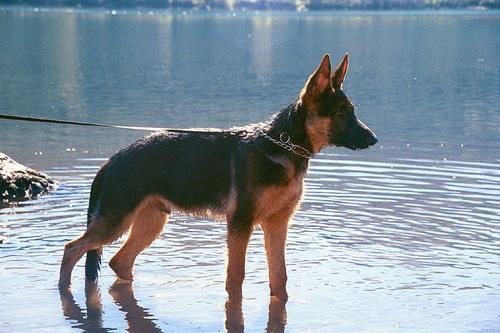German_shepherd: (57, 52, 375, 332)
